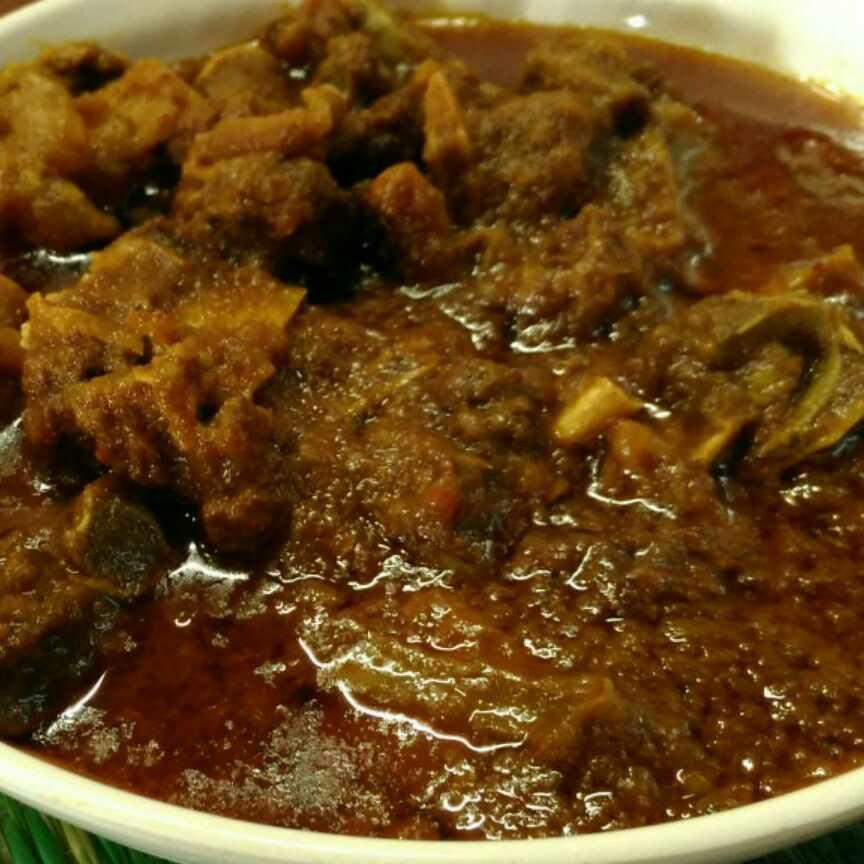MuttonCurry: (0, 0, 864, 836)
